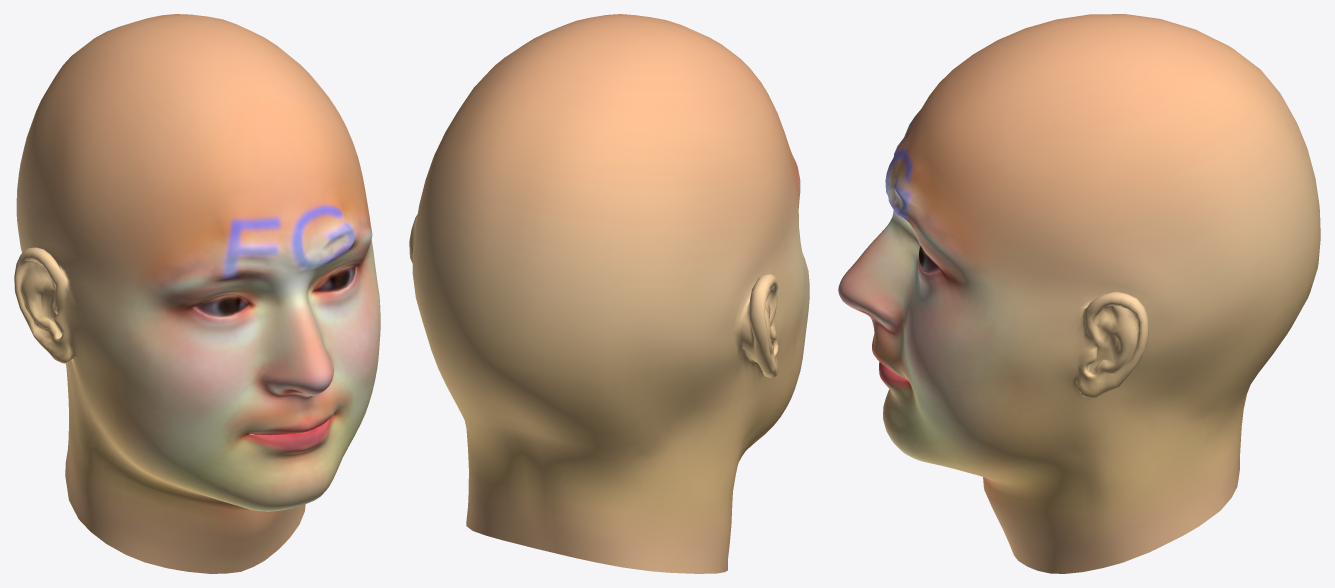
Rendered from avg_anyrace_male_03.obj.
3 renders of one model, left to right at view 1: azimuth 30°, elevation 25°; view 2: azimuth 150°, elevation 25°; view 3: azimuth 270°, elevation 25°, orthographic. The views are drawn at different scales.
Visible parts, largest first — view 1: HeadHires; view 2: HeadHires; view 3: HeadHires.
Part boxes in pixels (x1,y1,x2,y2): HeadHires: [14, 14, 380, 573]; HeadHires: [409, 14, 809, 573]; HeadHires: [838, 14, 1320, 573].
Size of the model in its own units: 193 by 283 by 238.
Materials: 1 (1 with a texture image).
